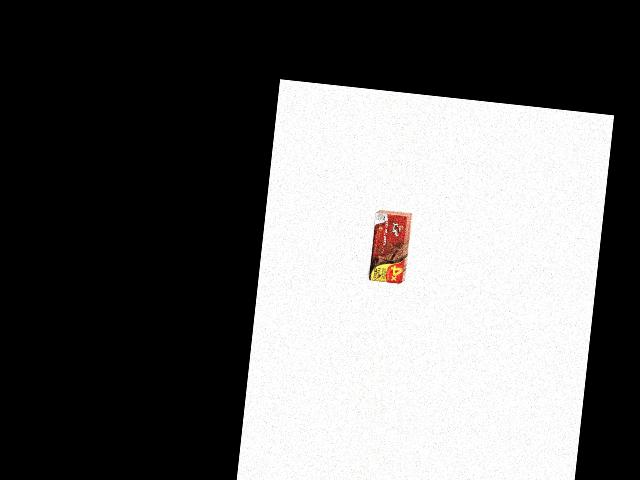chocolate: (366, 210, 411, 285)
